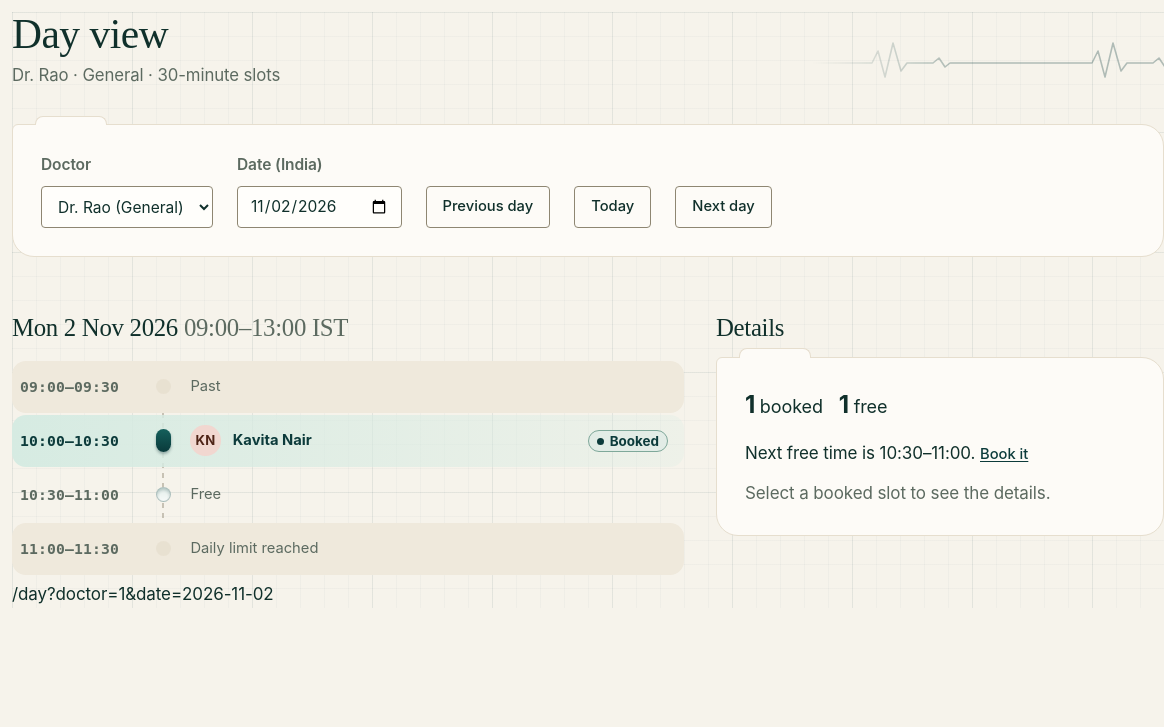
it: day view › shows the details and the allowed actions of a booked slot
Click the button "10:00–10:30 KN Kavita Nair Booked" at (70, 440), box [12,415,684,467]
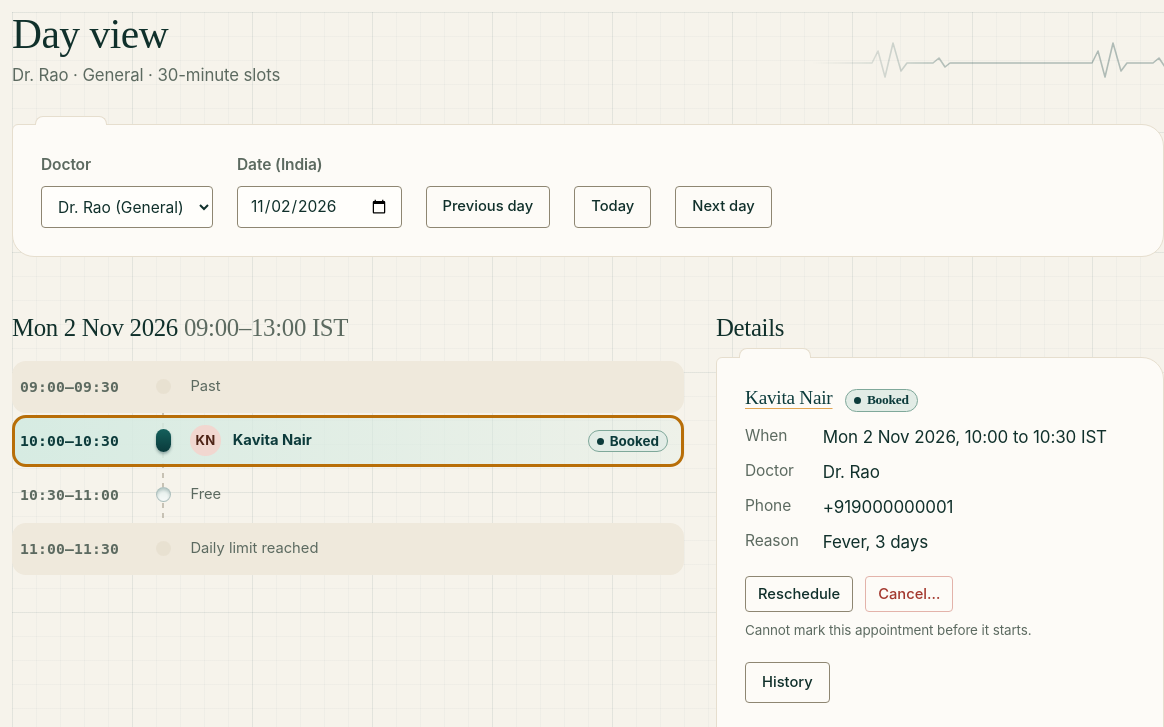
expect the text "Fever, 3 days" is shown: met, box [823,532,928,552]
expect the button "Reschedule" is enabled: met, box [745,576,853,612]
expect the text "Cannot mark this appointment before it starts." is shown: met, box [745,622,1032,638]
